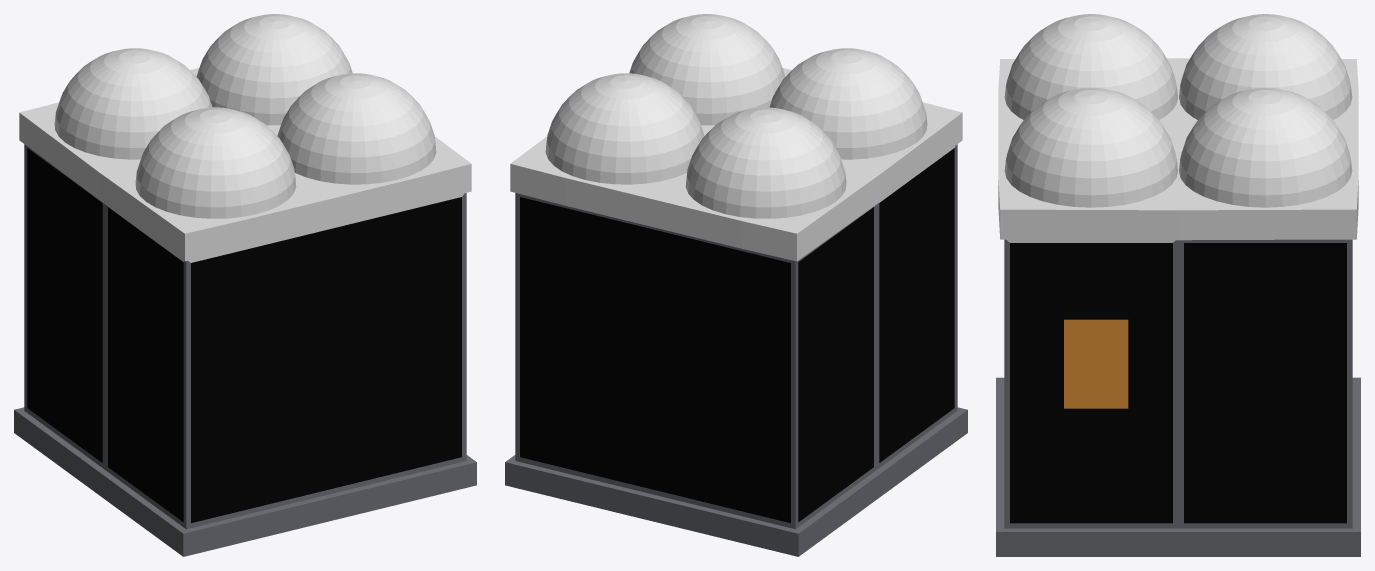
Rendered from banca_jornal.fbx.
3 renders of one model, left to right at view 1: azimuth 30°, elevation 25°; view 2: azimuth 150°, elevation 25°; view 3: azimuth 270°, elevation 25°, orthographic. The views are drawn at different scales.
Parts seen in each view (by area): view 1: Cube, Sphere.002, Sphere.001, Sphere.003, Sphere; view 2: Cube, Sphere.003, Sphere, Sphere.002, Sphere.001; view 3: Cube, Sphere, Sphere.001, Sphere.002, Sphere.003.
Part boxes in pixels (box(x1,y1,x2,y2)): Cube: box(14, 68, 476, 556); Sphere.002: box(135, 107, 296, 218); Sphere.001: box(277, 73, 436, 184); Sphere.003: box(54, 48, 212, 159); Sphere: box(196, 14, 352, 125); Cube: box(505, 68, 967, 556); Sphere.003: box(685, 107, 846, 218); Sphere: box(545, 73, 704, 184); Sphere.002: box(769, 48, 927, 159); Sphere.001: box(629, 14, 785, 125); Cube: box(996, 58, 1360, 556); Sphere: box(1179, 87, 1352, 207); Sphere.001: box(1004, 87, 1177, 207); Sphere.002: box(1004, 14, 1177, 119); Sphere.003: box(1179, 14, 1352, 119).
Bounding box in the file's own units: 628 × 800 × 628.
